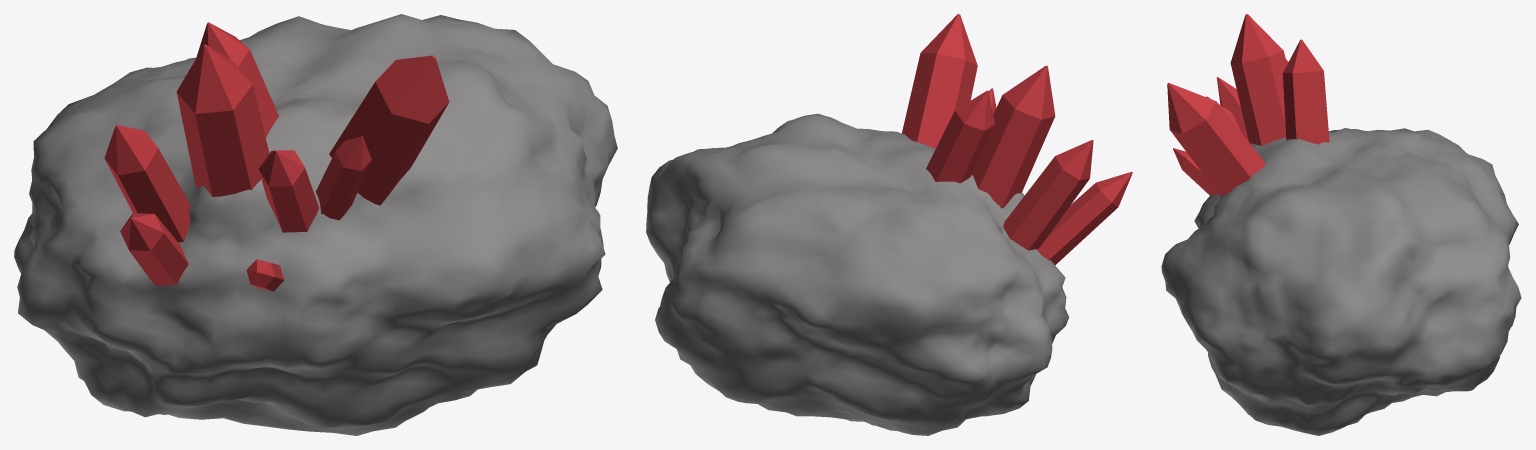
File: cinnabar_surface.glb
The picture shows the model from 3 angles, left to right: view 1: azimuth 30°, elevation 25°; view 2: azimuth 150°, elevation 25°; view 3: azimuth 270°, elevation 25°; orthographic projection. The views are drawn at different scales.
Parts seen in each view (by area): view 1: cinnabar_surface; view 2: cinnabar_surface; view 3: cinnabar_surface.
Part boxes in pixels (x1,y1,x2,y2): cinnabar_surface: (14,14,617,435); cinnabar_surface: (646,14,1132,435); cinnabar_surface: (1161,14,1521,435).
Bounding box in the file's own units: 1.14 × 0.9263 × 0.8933.
